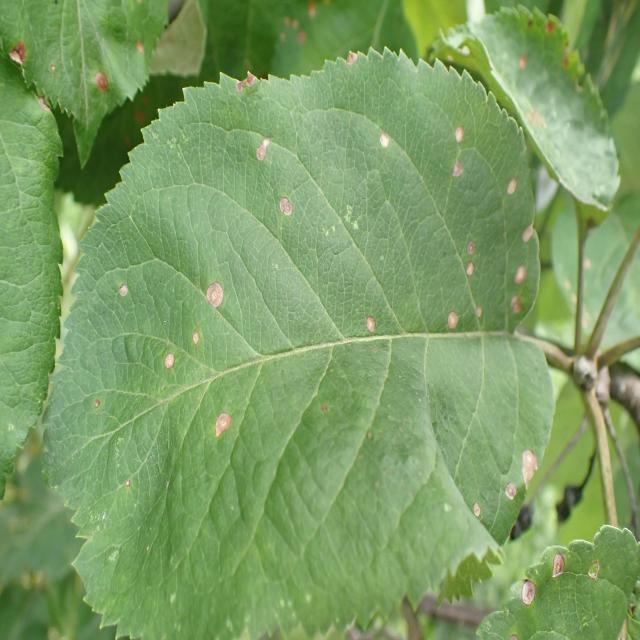Black Rot: (497, 462, 524, 529), (203, 401, 238, 451), (515, 567, 542, 623), (87, 57, 116, 109), (233, 58, 262, 109), (516, 446, 542, 498), (198, 271, 226, 317), (245, 133, 278, 172), (582, 550, 606, 603), (544, 544, 570, 592), (338, 41, 362, 83), (271, 187, 298, 224), (373, 122, 397, 159), (506, 289, 532, 323), (518, 215, 544, 249), (2, 35, 30, 66), (448, 156, 468, 199), (443, 306, 468, 340), (514, 48, 532, 95), (312, 389, 338, 421), (504, 168, 522, 214), (360, 308, 381, 343), (458, 258, 482, 288), (447, 118, 468, 152), (189, 326, 212, 356), (507, 263, 537, 285), (470, 302, 494, 327), (88, 394, 109, 422), (163, 347, 180, 381), (469, 492, 485, 526), (118, 274, 132, 307), (461, 239, 483, 260)
